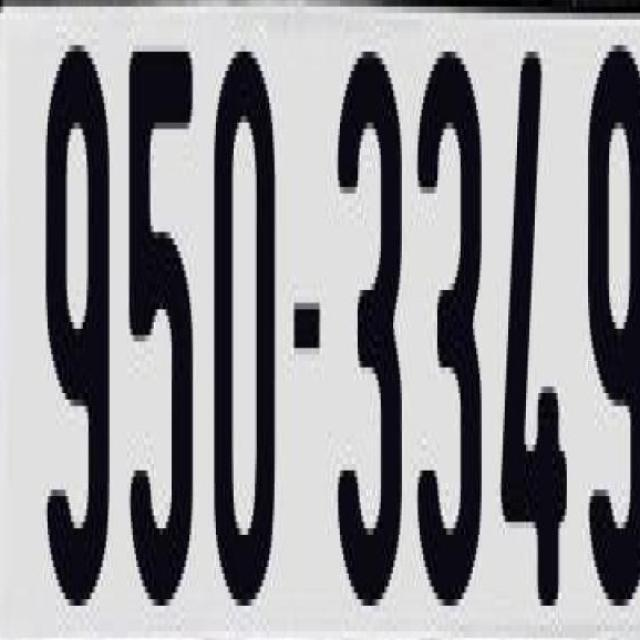license-plate: (4, 6, 640, 637)
